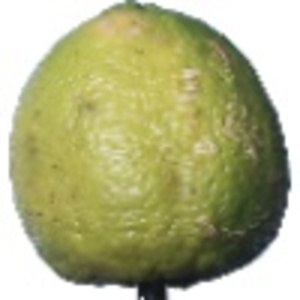limão: (9, 1, 293, 300)
